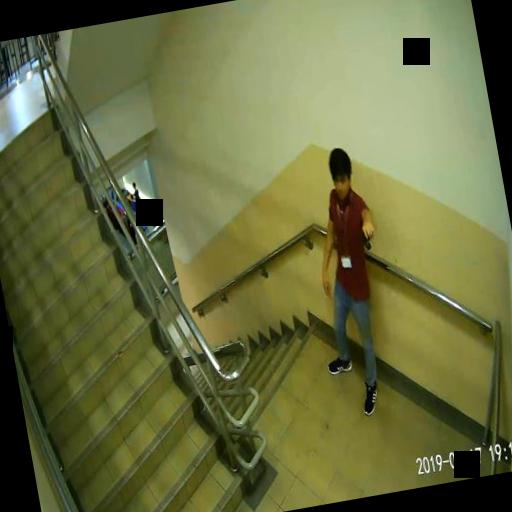Handgun: (355, 222, 375, 250)
